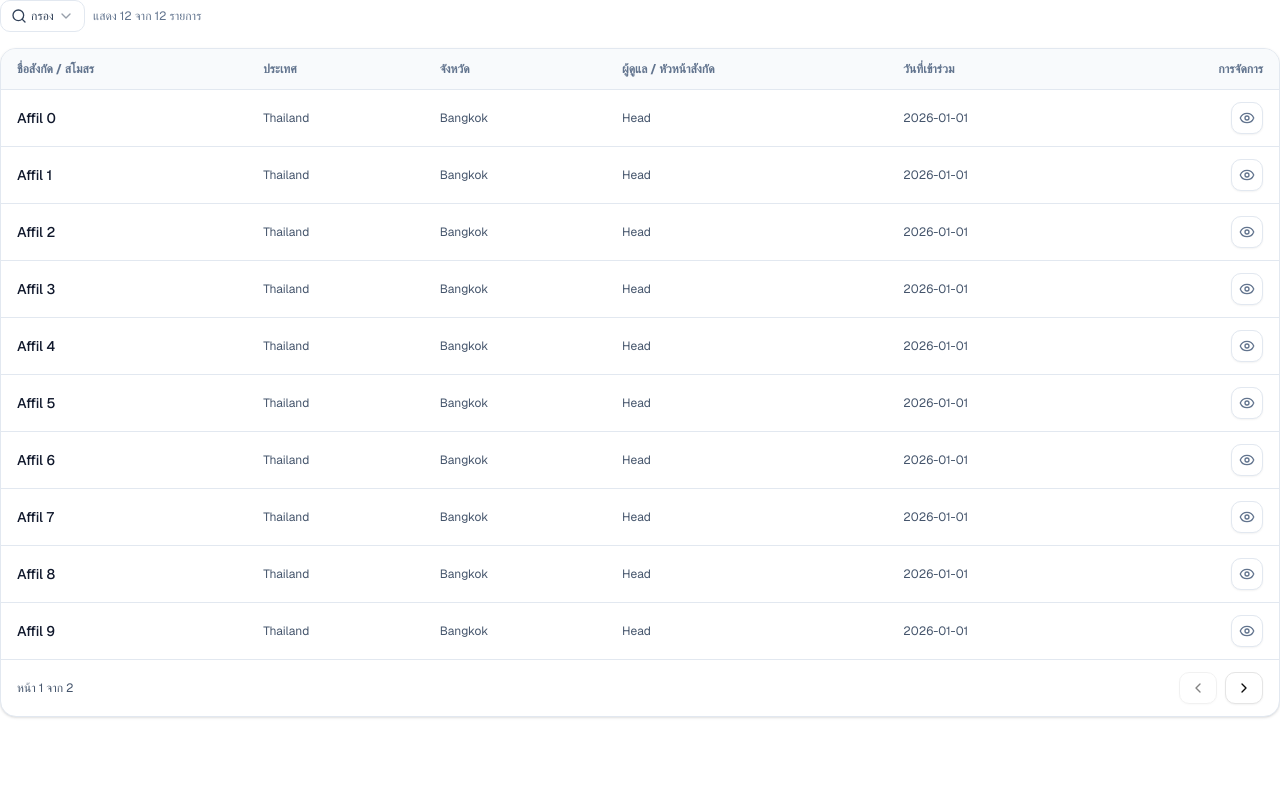
Test: AffiliationsList › filters rows via the search box
// The filter panel is collapsed by default — open it to reveal the search box.
Click the button with aria-label "ค้นหาและกรองขั้นสูง" at (42,16), box [0, 0, 85, 32]
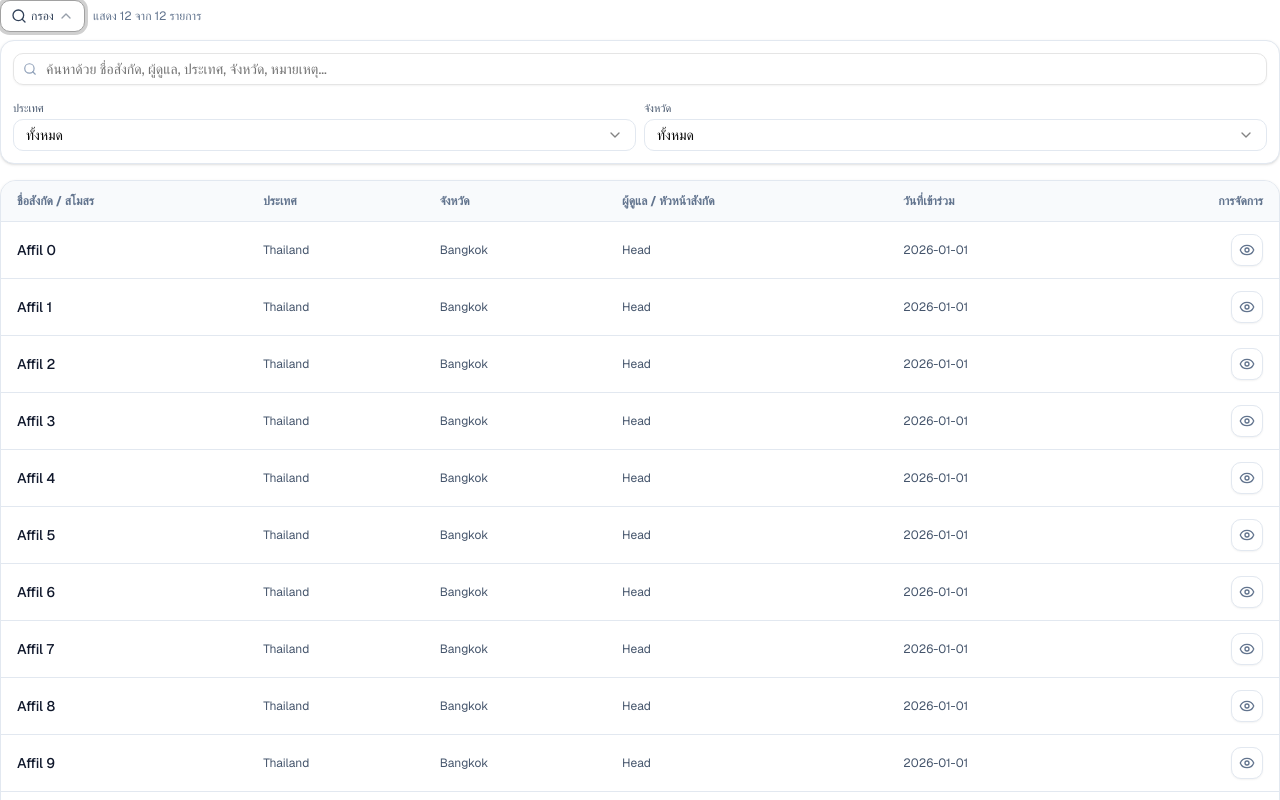
Type "Affil 5" into the field with placeholder "ค้นหาด้วย ชื่อสังกัด, ผู้ดูแล, ประเทศ, จังหวัด, หมายเหตุ..." at (640,69), box [13, 53, 1267, 85]
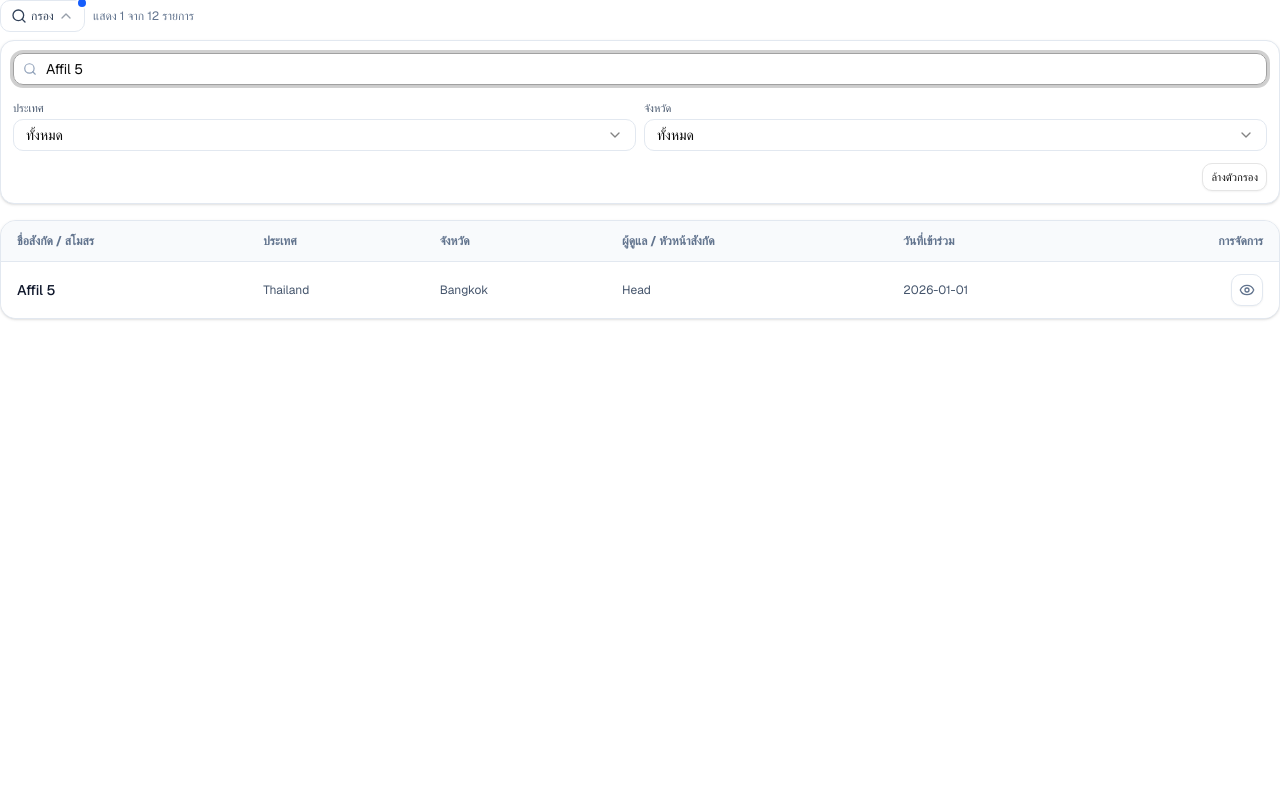
Expected: the text "Affil 5" is shown, [1, 262, 247, 318]
Expected: the text "Affil 4" is gone
